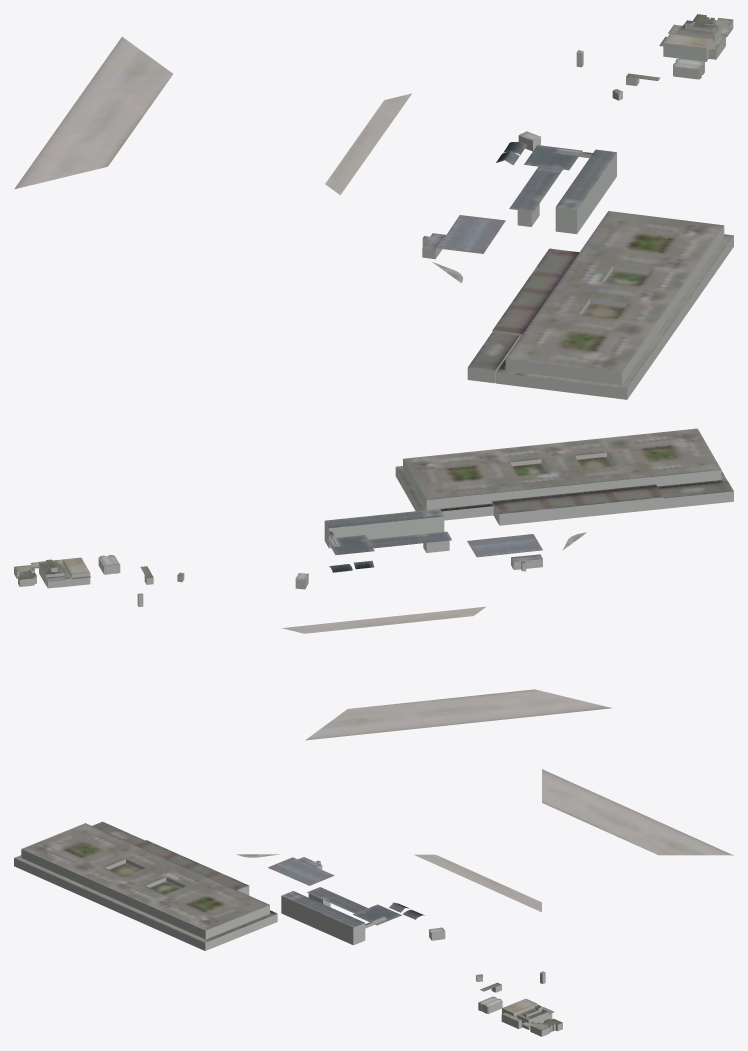
Rendered from LSGG_1_0.glb.
3 renders of one model, top to bottom at view 1: azimuth 30°, elevation 25°; view 2: azimuth 150°, elevation 25°; view 3: azimuth 270°, elevation 25°, orthographic. The views are drawn at different scales.
Visible parts, largest first — view 1: building_ae5ac06187800334, pavement_LSGG_pavement_4995_2244, building_0b23db9c0e2094a9, building_f5d188eb9a8e09f2, building_7b6f327a5aa0d62b, pavement_LSGG_pavement_4996_2243, building_408a765b602d810a, building_a9d2f2c5ff013940, building_639fc5f9f282ed4f, building_83c7ac9edab36209, building_a5588d2e802b81a5; view 2: building_ae5ac06187800334, pavement_LSGG_pavement_4995_2244, building_0b23db9c0e2094a9, building_f5d188eb9a8e09f2, building_7b6f327a5aa0d62b, pavement_LSGG_pavement_4996_2243, building_639fc5f9f282ed4f, building_a9d2f2c5ff013940, building_408a765b602d810a, building_8704eede33950755, building_83c7ac9edab36209; view 3: building_ae5ac06187800334, pavement_LSGG_pavement_4995_2244, building_0b23db9c0e2094a9, building_f5d188eb9a8e09f2, building_639fc5f9f282ed4f, building_7b6f327a5aa0d62b, pavement_LSGG_pavement_4996_2243, building_408a765b602d810a, building_a9d2f2c5ff013940.
Part boxes in pixels (bbox=[...]): building_ae5ac06187800334: bbox=[492, 211, 733, 388]; pavement_LSGG_pavement_4995_2244: bbox=[14, 36, 172, 189]; building_0b23db9c0e2094a9: bbox=[492, 226, 733, 399]; building_f5d188eb9a8e09f2: bbox=[438, 149, 616, 253]; building_7b6f327a5aa0d62b: bbox=[496, 131, 592, 211]; pavement_LSGG_pavement_4996_2243: bbox=[325, 93, 462, 283]; building_408a765b602d810a: bbox=[576, 15, 733, 100]; building_a9d2f2c5ff013940: bbox=[577, 14, 732, 93]; building_639fc5f9f282ed4f: bbox=[437, 153, 616, 253]; building_83c7ac9edab36209: bbox=[468, 332, 519, 370]; building_a5588d2e802b81a5: bbox=[498, 135, 591, 226]; building_ae5ac06187800334: bbox=[396, 428, 727, 513]; pavement_LSGG_pavement_4995_2244: bbox=[305, 689, 612, 740]; building_0b23db9c0e2094a9: bbox=[395, 452, 721, 525]; building_f5d188eb9a8e09f2: bbox=[325, 508, 542, 557]; building_7b6f327a5aa0d62b: bbox=[295, 531, 451, 580]; pavement_LSGG_pavement_4996_2243: bbox=[281, 532, 586, 633]; building_639fc5f9f282ed4f: bbox=[324, 516, 541, 557]; building_a9d2f2c5ff013940: bbox=[14, 555, 184, 594]; building_408a765b602d810a: bbox=[14, 558, 184, 606]; building_8704eede33950755: bbox=[663, 491, 733, 508]; building_83c7ac9edab36209: bbox=[658, 481, 733, 498]; building_ae5ac06187800334: bbox=[14, 823, 277, 942]; pavement_LSGG_pavement_4995_2244: bbox=[542, 769, 733, 855]; building_0b23db9c0e2094a9: bbox=[14, 849, 277, 950]; building_f5d188eb9a8e09f2: bbox=[268, 857, 364, 927]; building_639fc5f9f282ed4f: bbox=[274, 870, 365, 945]; building_7b6f327a5aa0d62b: bbox=[307, 887, 444, 932]; pavement_LSGG_pavement_4996_2243: bbox=[236, 854, 541, 912]; building_408a765b602d810a: bbox=[476, 972, 562, 1036]; building_a9d2f2c5ff013940: bbox=[476, 971, 562, 1030].
Bounding box in the file's own units: 557 × 22.65 × 658.
3 materials, 2 textured.
